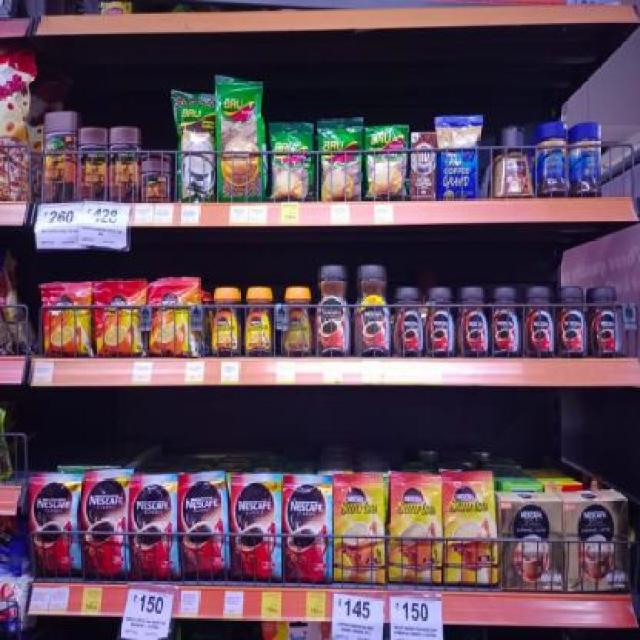Coffee: (443, 475, 497, 585), (334, 475, 386, 583), (390, 475, 441, 583), (178, 475, 230, 577), (231, 476, 281, 580), (284, 476, 331, 584), (130, 478, 179, 578), (82, 477, 130, 578), (30, 480, 80, 575), (354, 264, 392, 359), (149, 283, 197, 354), (313, 265, 350, 357), (96, 283, 142, 354), (44, 286, 90, 354), (587, 287, 621, 358), (556, 286, 587, 357), (210, 288, 241, 358), (522, 288, 553, 357), (394, 286, 424, 356), (426, 288, 454, 357), (493, 288, 521, 357), (460, 290, 488, 359), (283, 289, 312, 354), (245, 288, 272, 354)
